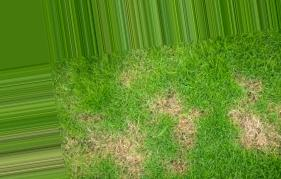patch: (242, 116, 260, 143), (116, 143, 133, 163), (180, 118, 191, 138), (168, 101, 183, 114)
